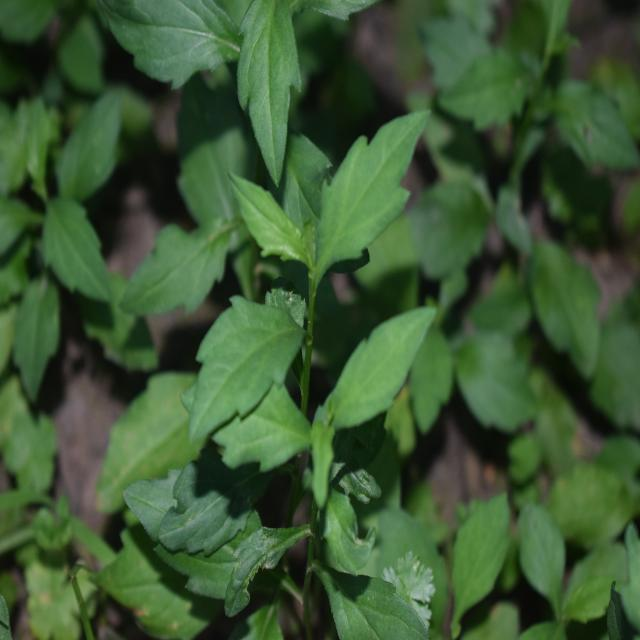Indian aster: (175, 121, 422, 595)
